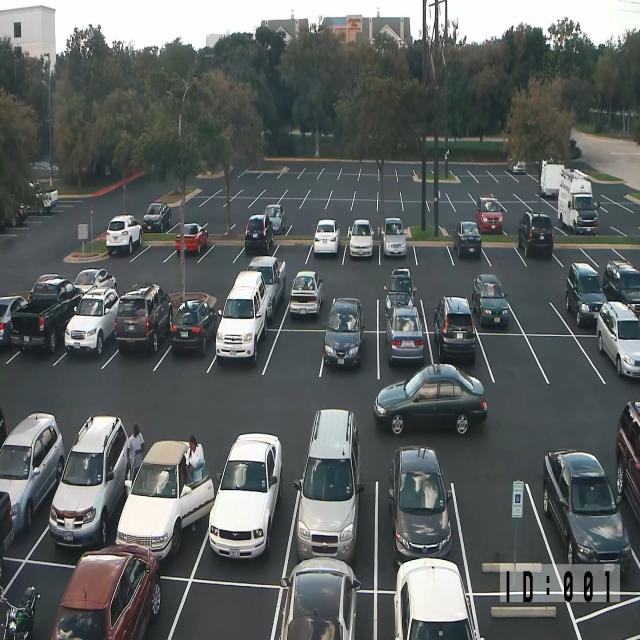car: (115, 438, 215, 560), (293, 407, 364, 564), (48, 414, 131, 548), (50, 542, 162, 640), (543, 448, 631, 572), (208, 431, 282, 560), (373, 362, 488, 436), (0, 412, 65, 536), (388, 444, 452, 566), (270, 556, 361, 640), (394, 556, 485, 640), (10, 274, 84, 354), (215, 270, 271, 362), (114, 281, 172, 354), (64, 286, 119, 356), (596, 301, 640, 378), (615, 399, 640, 523), (323, 296, 365, 368), (433, 295, 476, 362), (565, 261, 607, 327), (170, 298, 217, 356), (558, 169, 598, 235), (247, 256, 286, 320), (384, 304, 424, 364), (0, 584, 41, 640), (602, 258, 640, 318), (472, 273, 509, 327), (517, 210, 554, 258), (289, 270, 323, 318), (383, 266, 417, 314), (106, 214, 142, 255), (0, 294, 26, 347), (0, 490, 15, 576), (73, 268, 118, 296), (244, 213, 274, 252), (475, 195, 503, 234), (174, 222, 208, 254), (453, 220, 481, 258), (348, 218, 374, 258), (313, 218, 341, 255), (381, 217, 406, 256), (142, 202, 171, 232), (264, 203, 286, 235), (36, 188, 58, 214), (10, 202, 28, 227), (30, 160, 58, 172), (0, 407, 7, 452), (512, 158, 526, 174), (568, 136, 576, 149)
